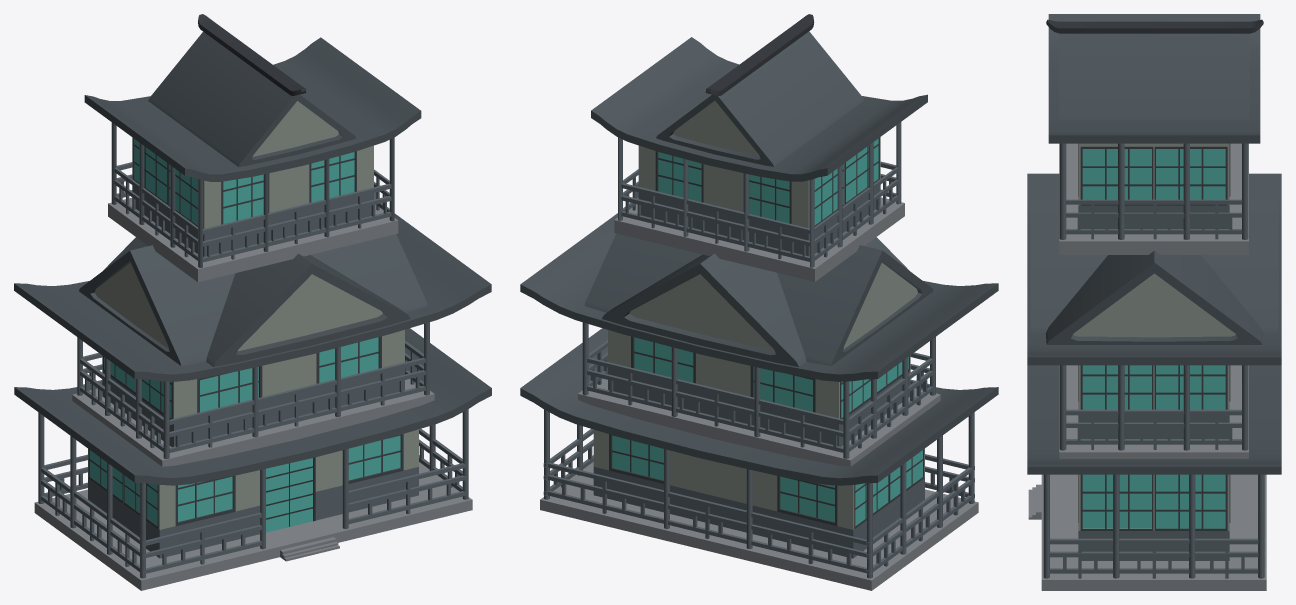
The model's file is Building_4.fbx.
3 views of the same model, side by side, from view 1: azimuth 30°, elevation 25°; view 2: azimuth 150°, elevation 25°; view 3: azimuth 270°, elevation 25° (orthographic). The views are drawn at different scales.
Parts seen in each view (by area): view 1: Building_4; view 2: Building_4; view 3: Building_4.
Boxes of the visible parts, bbox=[...] form: Building_4: bbox=[14, 14, 491, 590]; Building_4: bbox=[520, 14, 998, 590]; Building_4: bbox=[1027, 14, 1281, 590].
Size of the model in its own units: 572 by 703 by 334.
